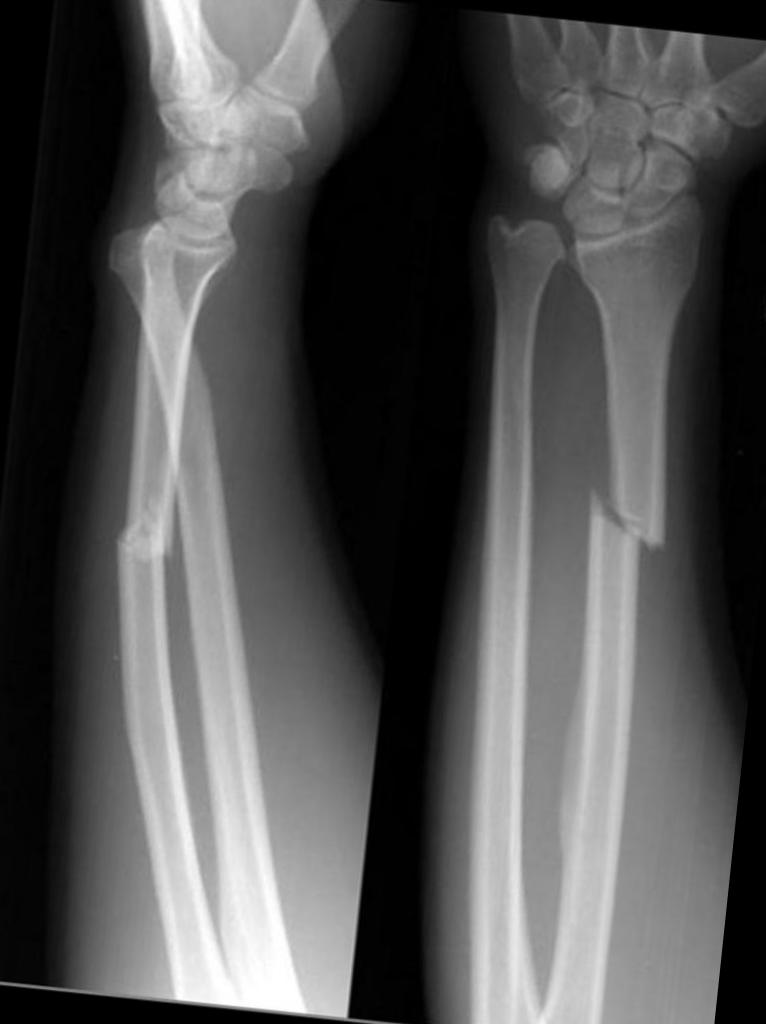fracture: (580, 494, 654, 561), (110, 518, 172, 567)
